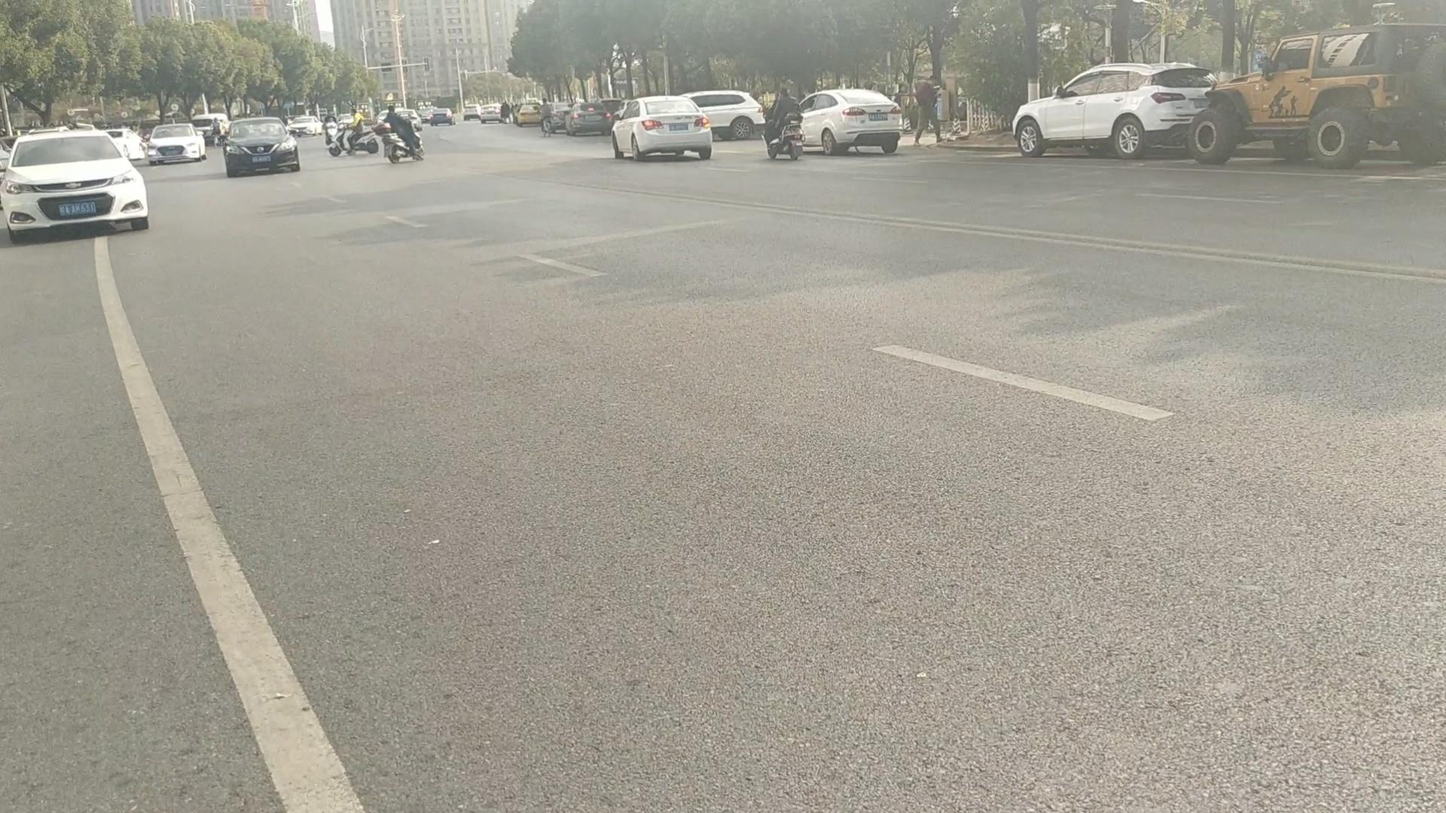car: (1011, 61, 1219, 158), (0, 126, 150, 242), (785, 89, 900, 155), (612, 94, 713, 160), (221, 116, 300, 178), (687, 90, 767, 140), (145, 123, 207, 166), (104, 126, 148, 163), (565, 105, 612, 137), (189, 113, 231, 146), (541, 101, 572, 134), (65, 106, 100, 129), (288, 114, 323, 136), (516, 99, 544, 126), (480, 103, 511, 124), (425, 108, 454, 126), (462, 103, 488, 123)
